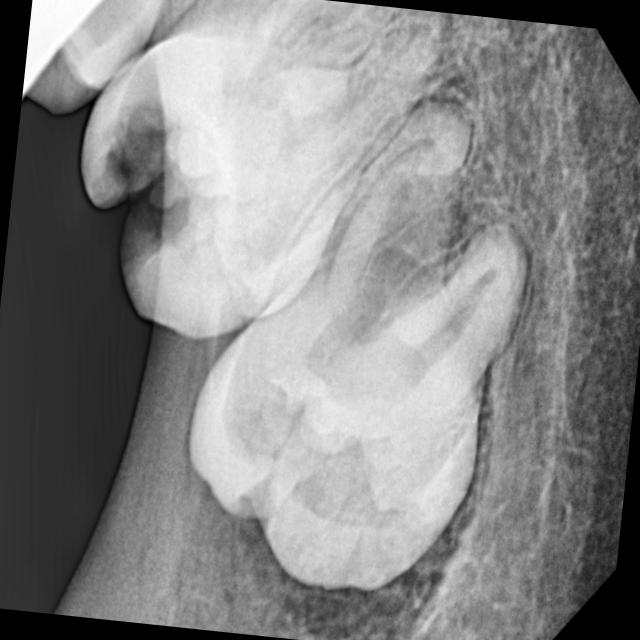Caries: (71, 56, 240, 302)
